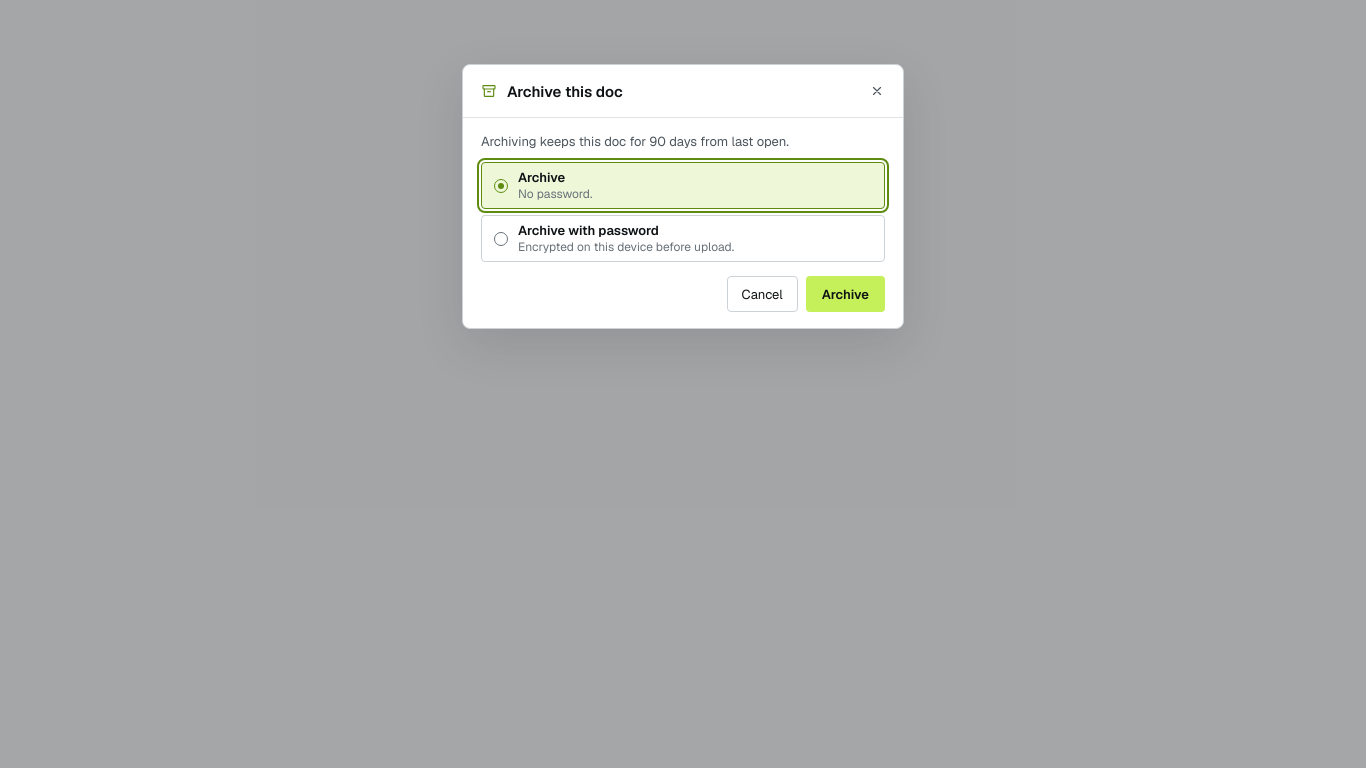
Scenario: SaveModal encrypt path with images › a failed image upload stops before the save, with the fixed error and Retry
Click the radio button labelled "Archive with password" at {"x": 683, "y": 238}, box [481,215,885,262]
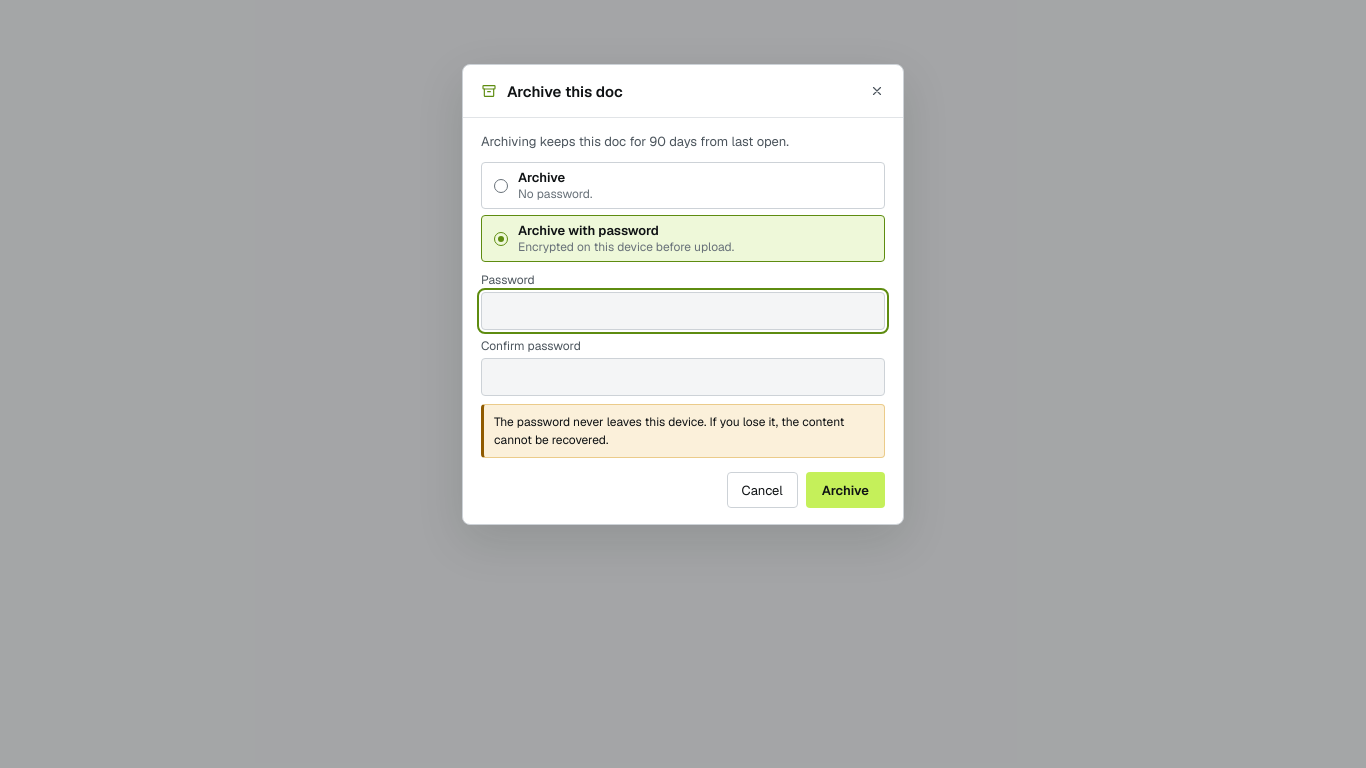
Type "password123" into the password field labelled "Password" at {"x": 683, "y": 311}, box [481,292,885,330]
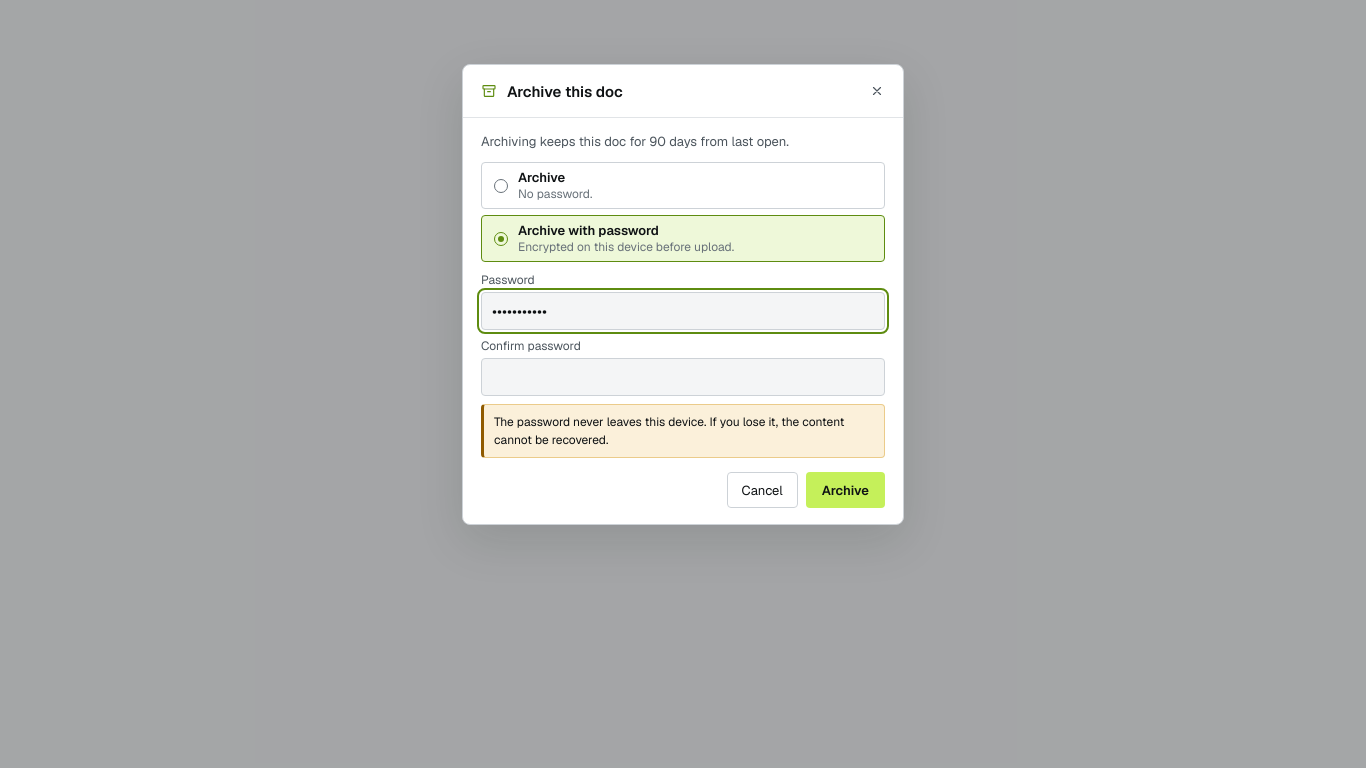
Type "password123" into the password field labelled "Confirm password" at {"x": 683, "y": 377}, box [481,358,885,396]
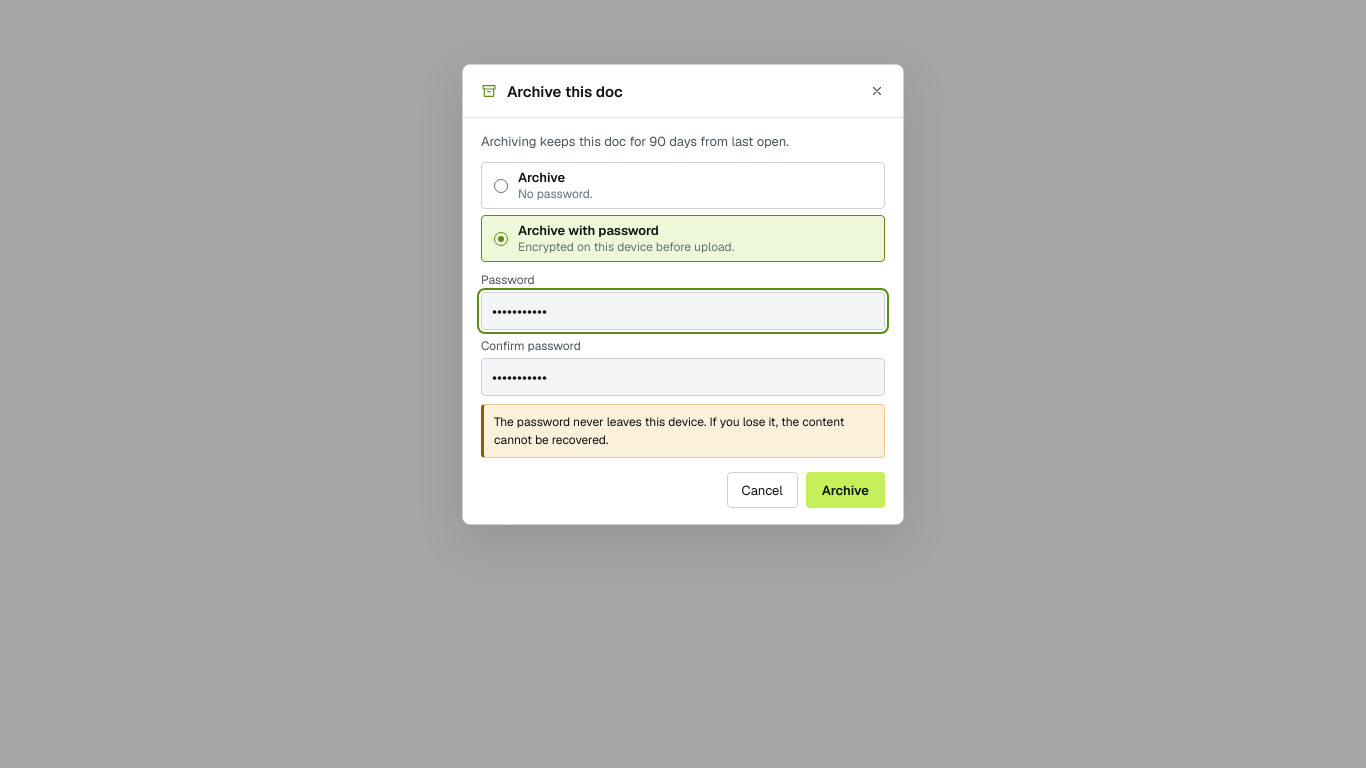
Click the button "Archive" at {"x": 845, "y": 490}, box [806,472,885,508]
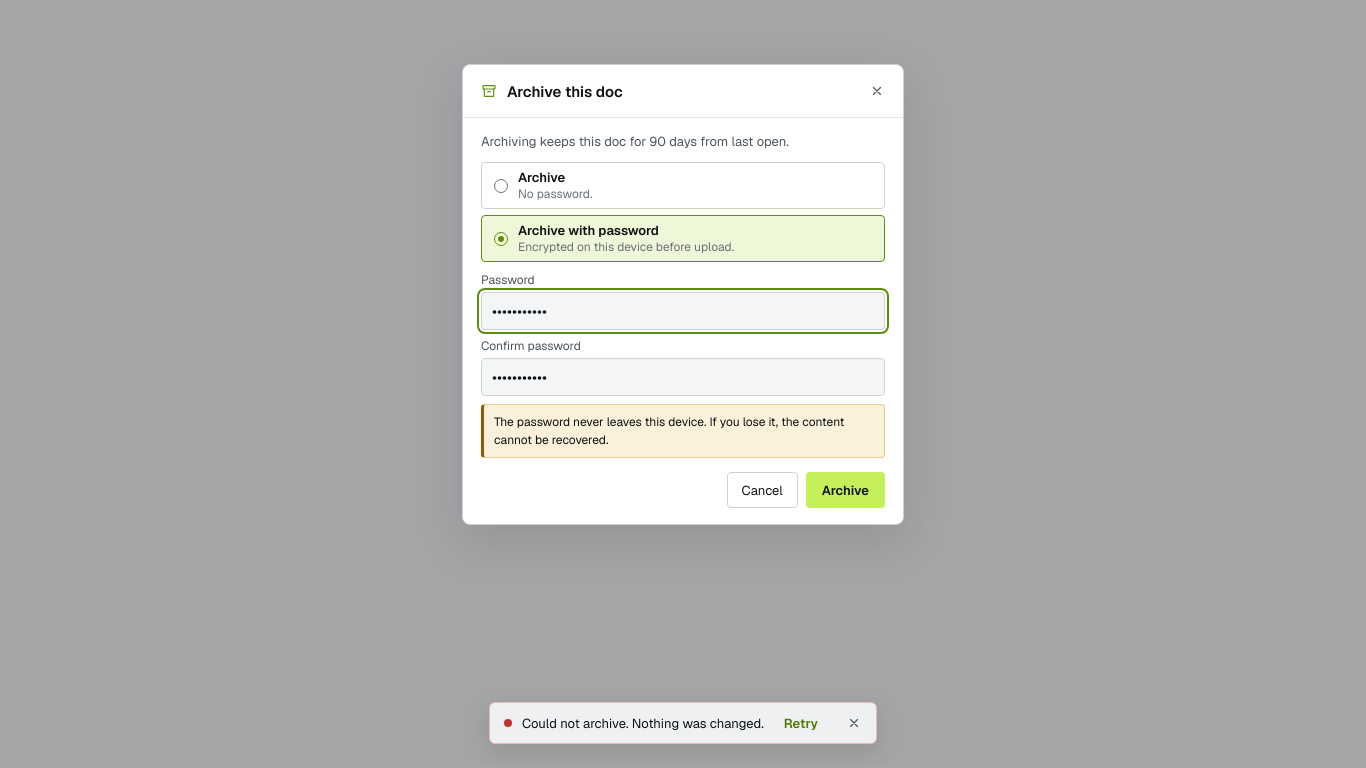
Check: the message shows "Could not archive. Nothing was changed.", box [522,714,764,732]
Check: the button "Retry" is shown, box [774,707,828,739]
